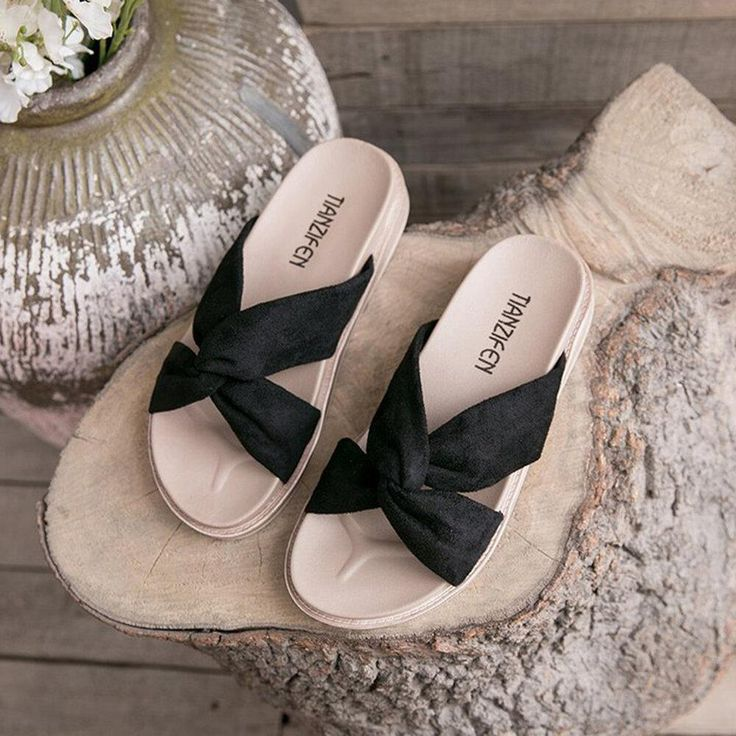gamuza: (148, 215, 568, 584)
